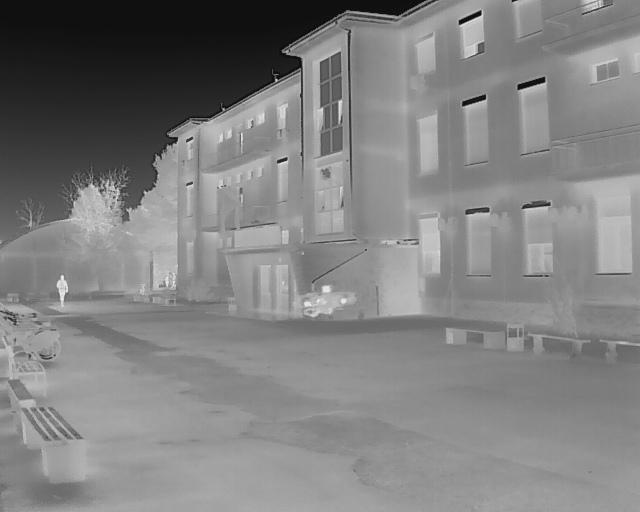drone: (288, 281, 361, 321)
